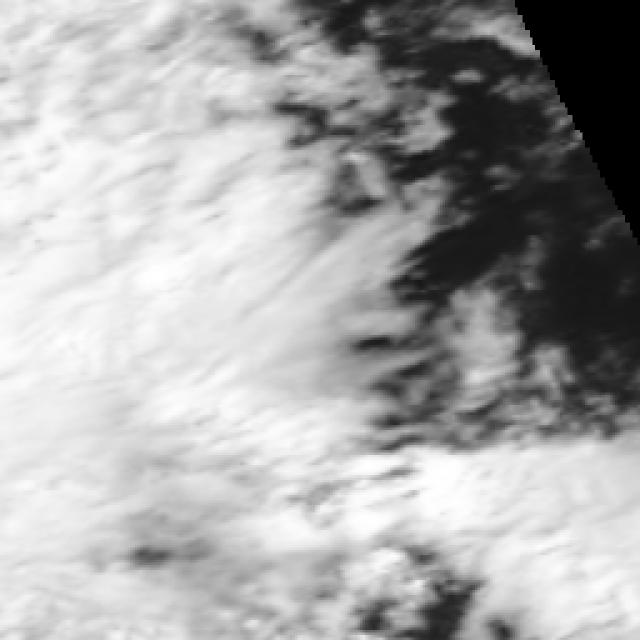CB: (4, 118, 218, 492)
